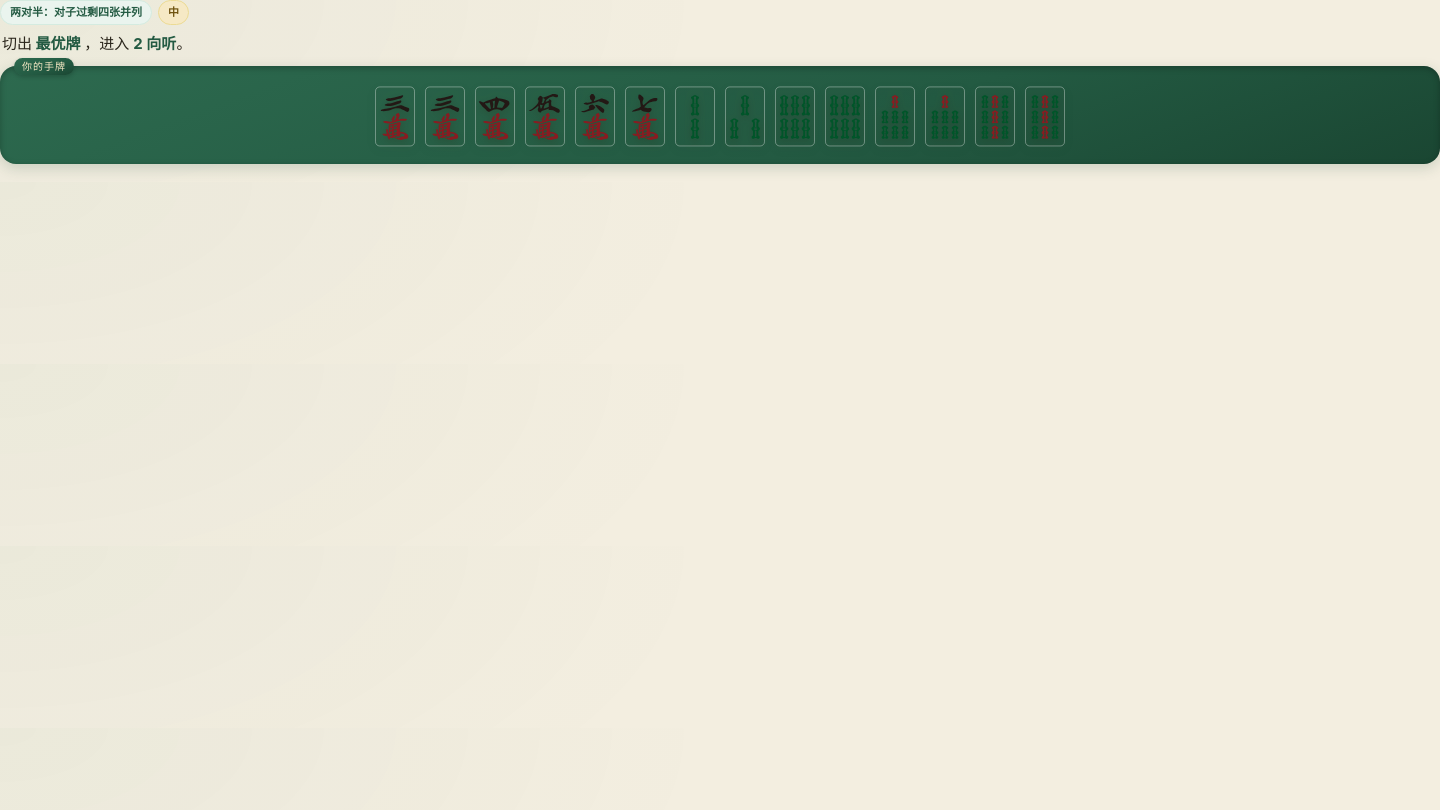
Test: QuestionCard 讲解抽屉（用户 bug 回归） › 切错牌（拆 23条）也必须给解析：verdict 显示应选四张并列
Click the 7th button with class "tile" at (695, 116), box top-left (673, 84), bottom-right (717, 150)
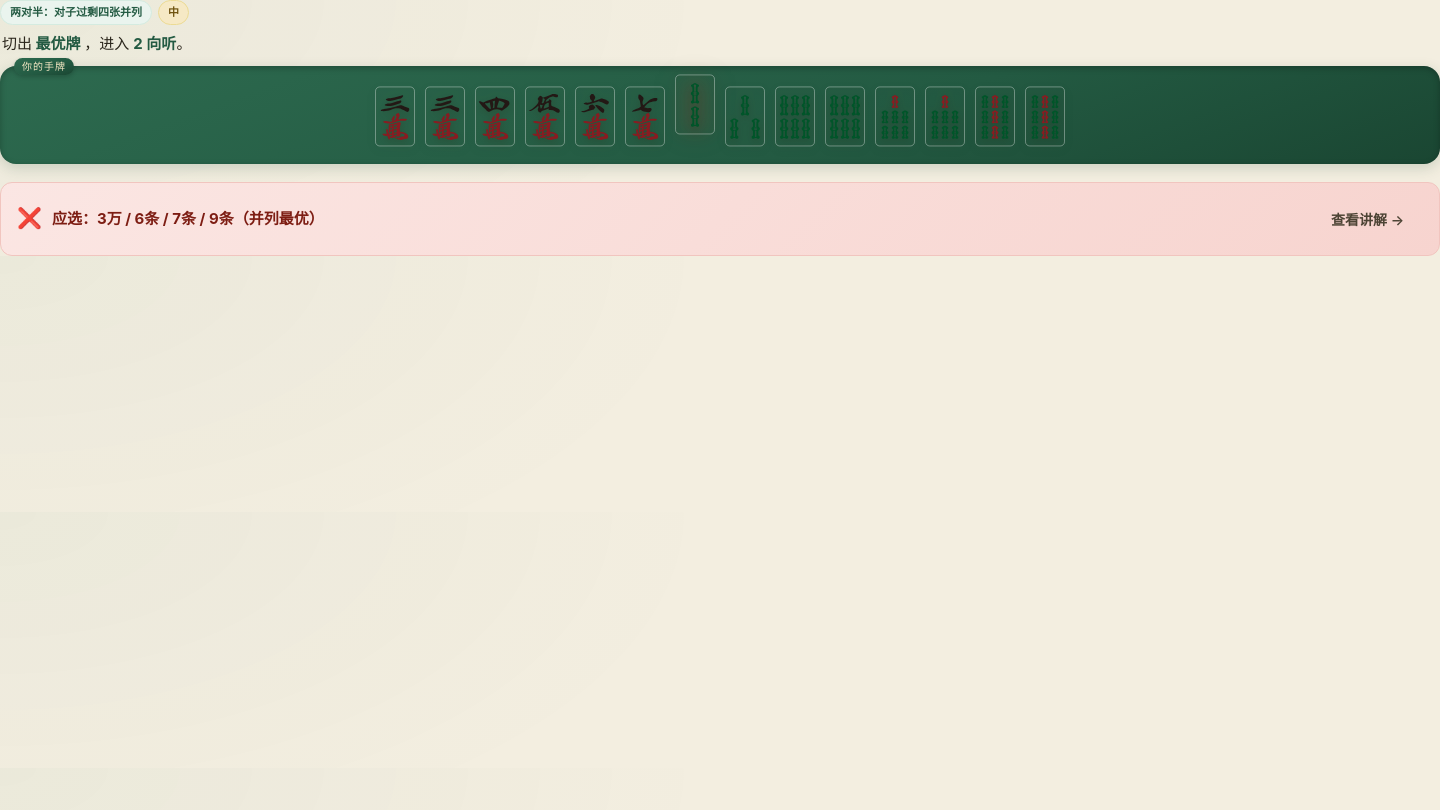
Expected: the element showing "❌ 应选：3万 / 6条 / 7条 / 9条（并列最优） 查看讲解 →" is shown, top-left (0, 182), bottom-right (1439, 256)
Click the button "查看讲解 →" at (1368, 218), box top-left (1312, 196), bottom-right (1423, 240)
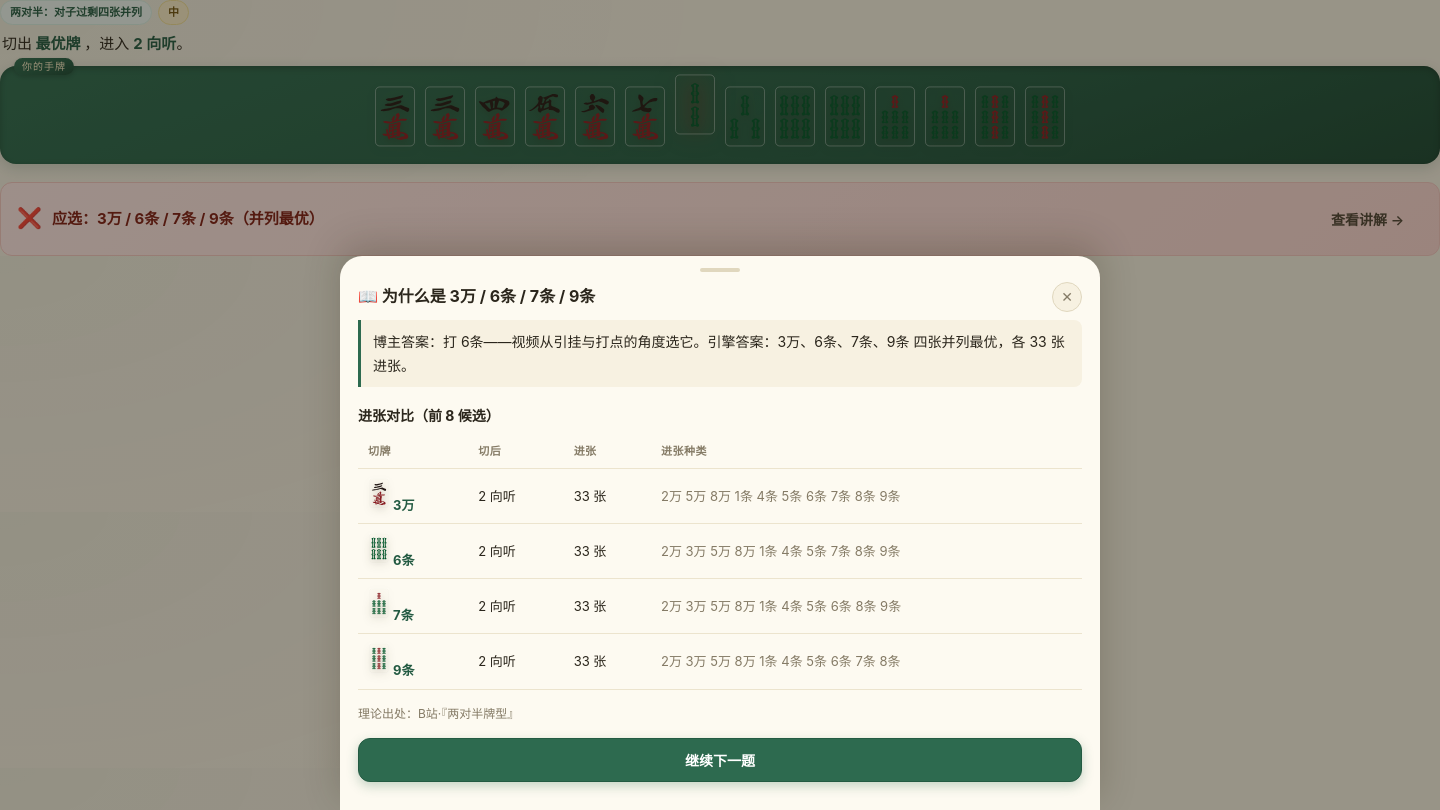
Expected: the dialog with class "drawer" is shown, top-left (340, 256), bottom-right (1100, 809)
